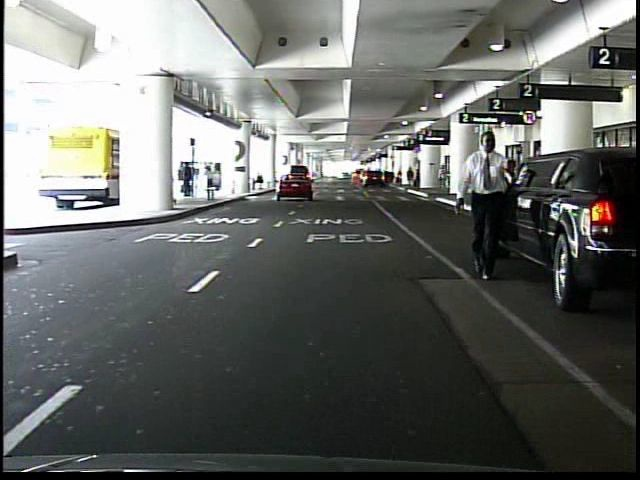person: (460, 124, 520, 285), (182, 160, 196, 198), (436, 165, 449, 192), (254, 170, 266, 193), (407, 167, 416, 189)
